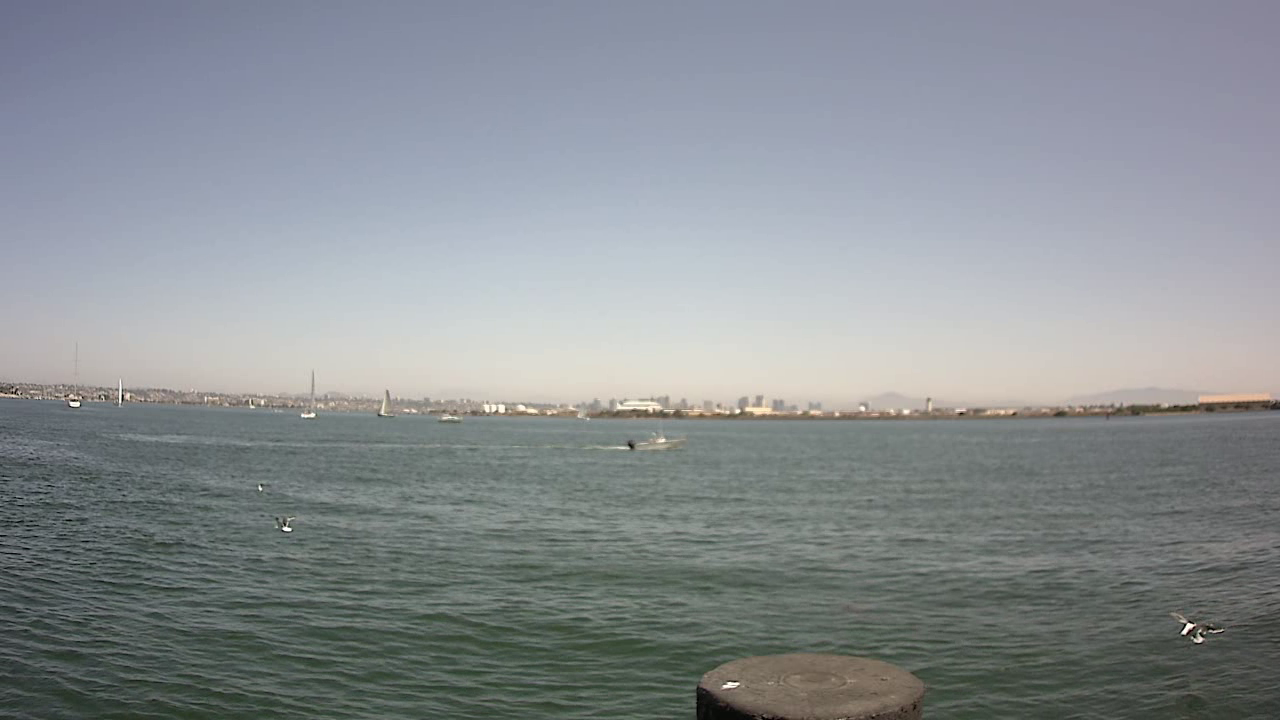target: (614, 419, 698, 455)
